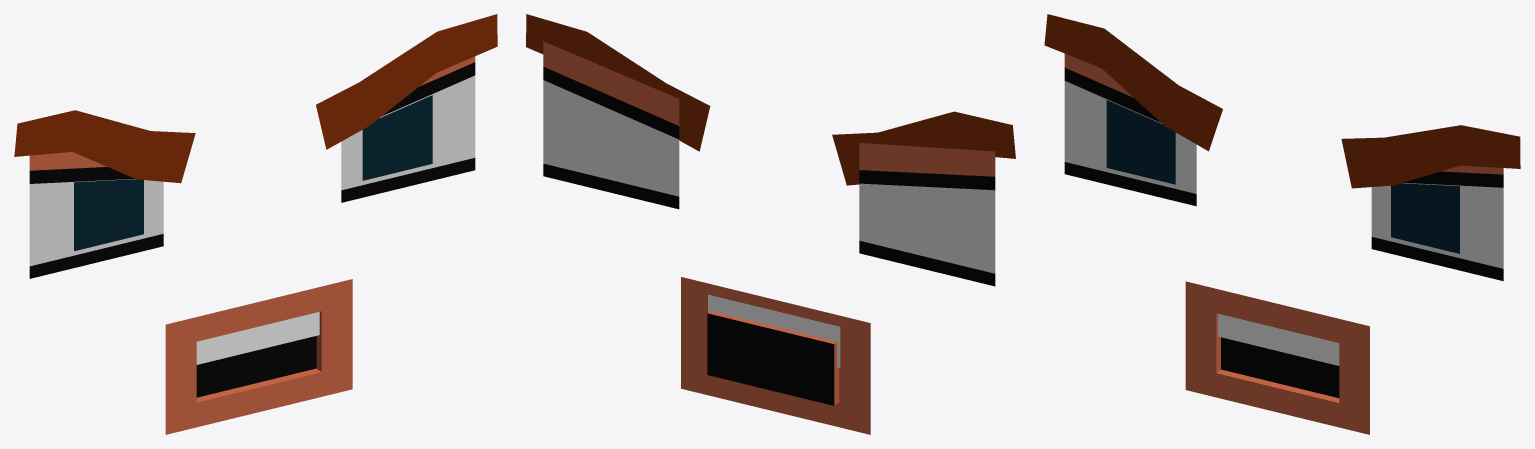
Rendered from Face Female 01.FBX.
The picture shows the model from 3 angles, left to right: view 1: azimuth 30°, elevation 25°; view 2: azimuth 150°, elevation 25°; view 3: azimuth 330°, elevation 25°; orthographic projection. The views are drawn at different scales.
Parts seen in each view (by area): view 1: Face Female 01; view 2: Face Female 01; view 3: Face Female 01.
Part boxes in pixels (<box>): Face Female 01: <box>14,14,497,434</box>; Face Female 01: <box>526,14,1015,434</box>; Face Female 01: <box>1044,14,1520,434</box>.
Size of the model in its own units: 42.99 by 29.21 by 1.01.
1 material, 1 textured.
